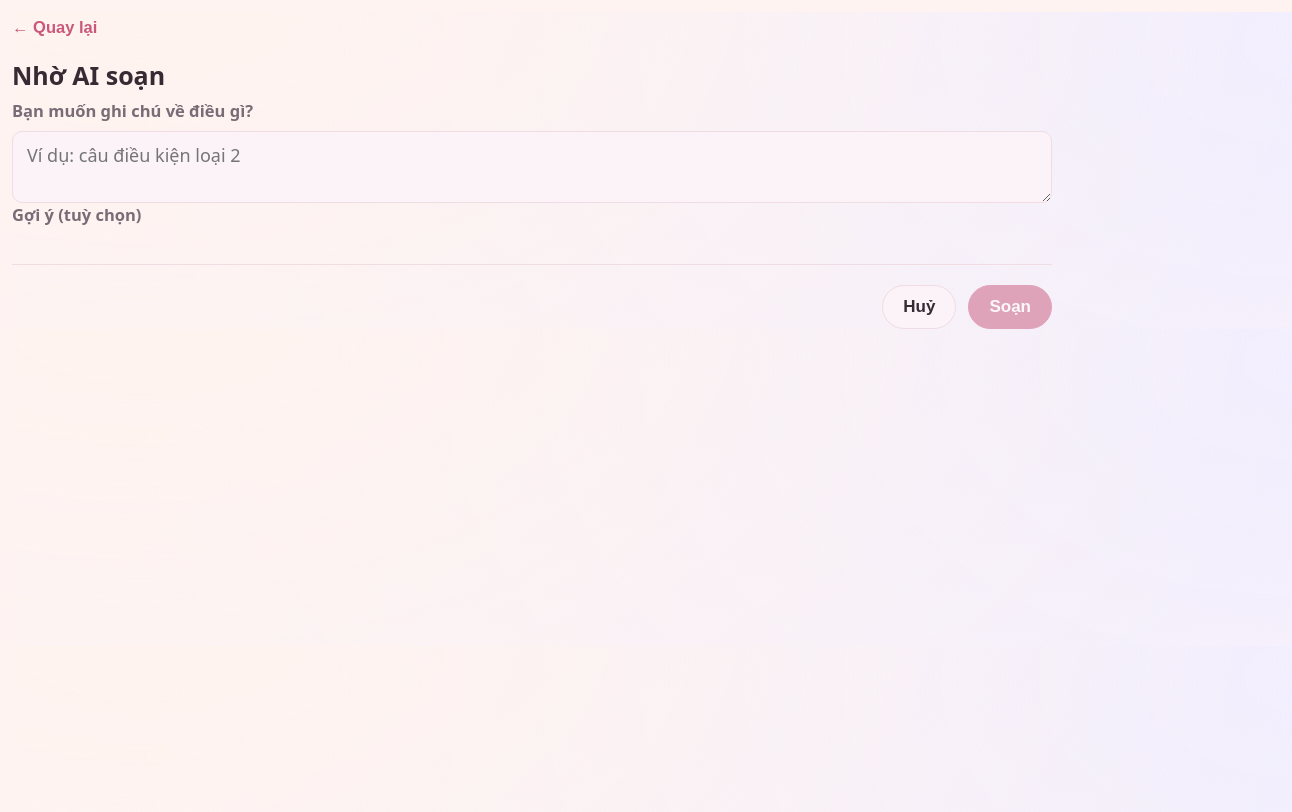
Test: KnowledgeAiComposePage › generateContent throws → error state + Thử lại
The image size is (1292, 812).
Type "chủ đề mới toanh" into the text box at coordinates (532, 167), box [12,131,1052,203]
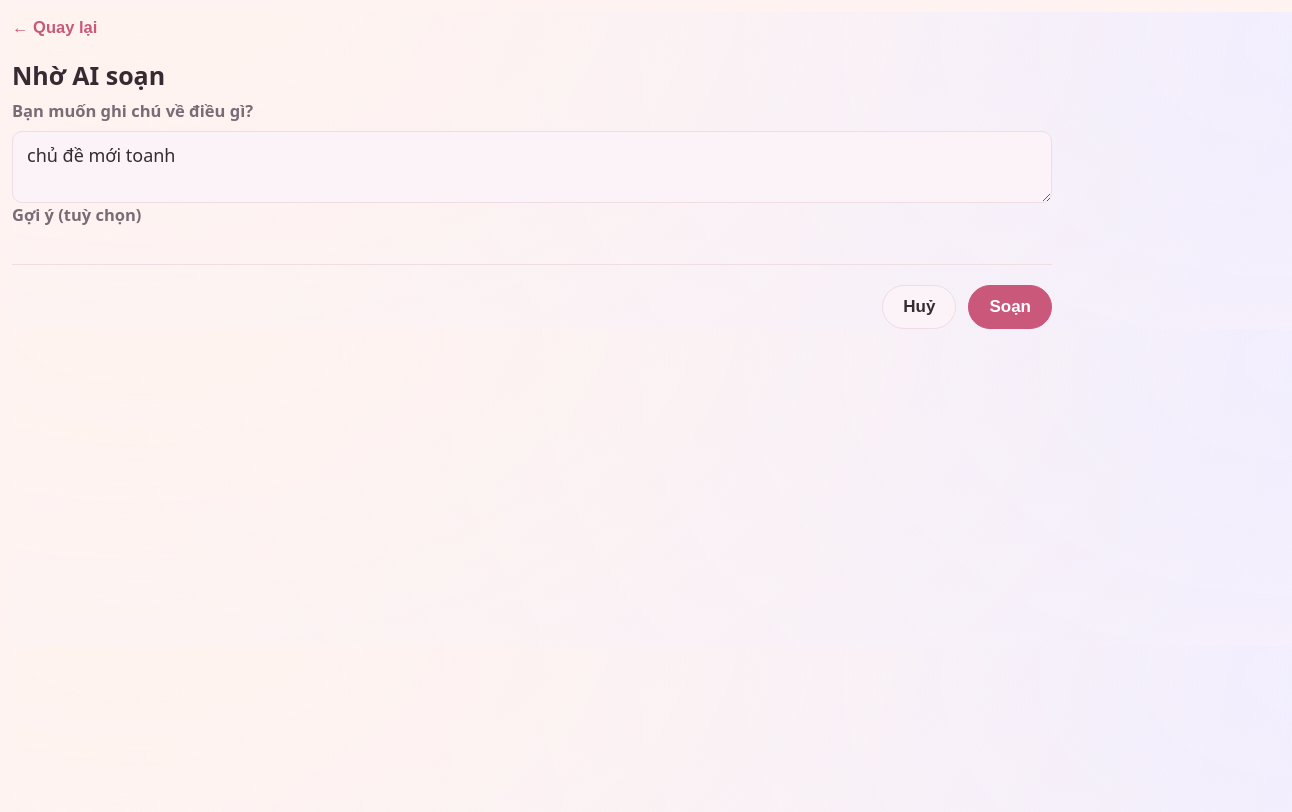
Click the button "Soạn" at coordinates (1010, 307), box [968,285,1052,329]
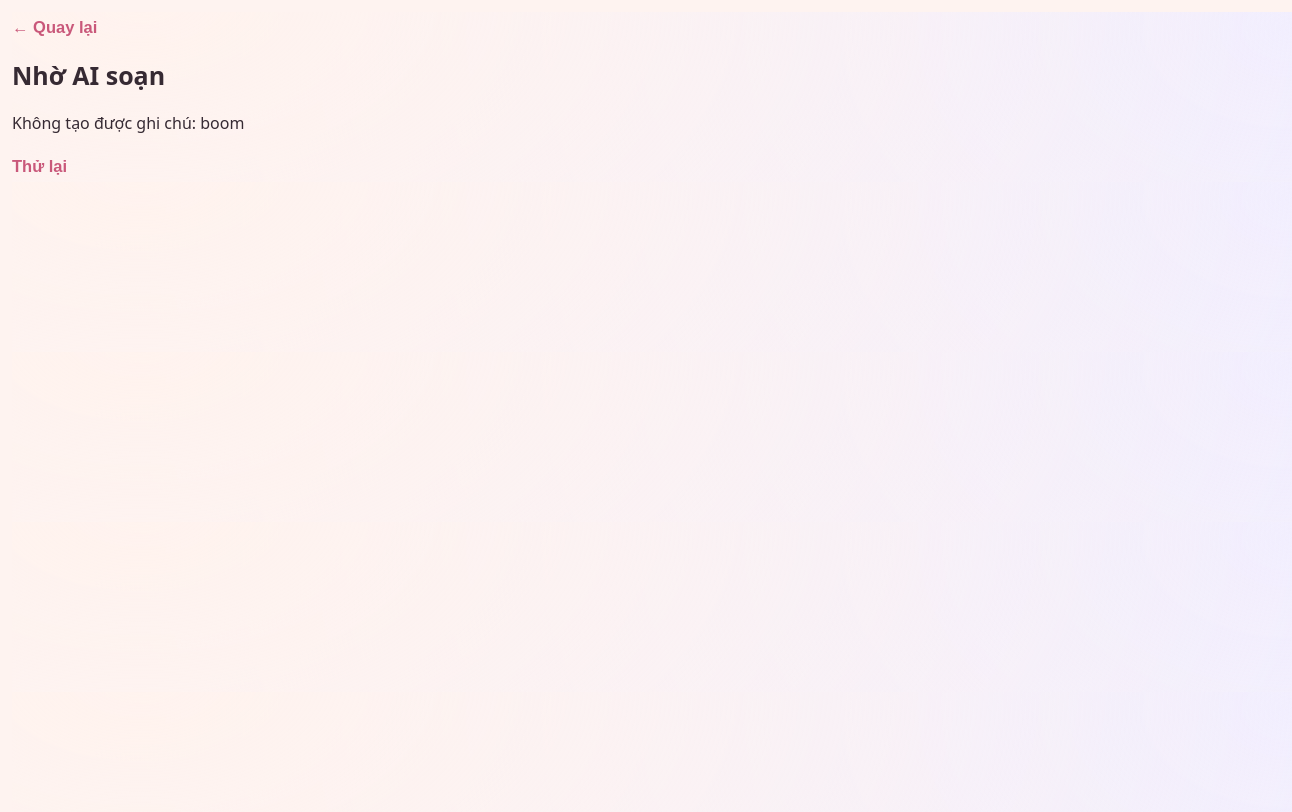
Expected: the text "Không tạo được ghi chú: boom" is shown, [12,112,244,134]
Expected: the button "Thử lại" is shown, [12,150,67,182]
